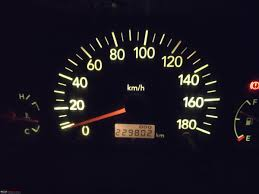Digital_Meter: (114, 124, 158, 139)
